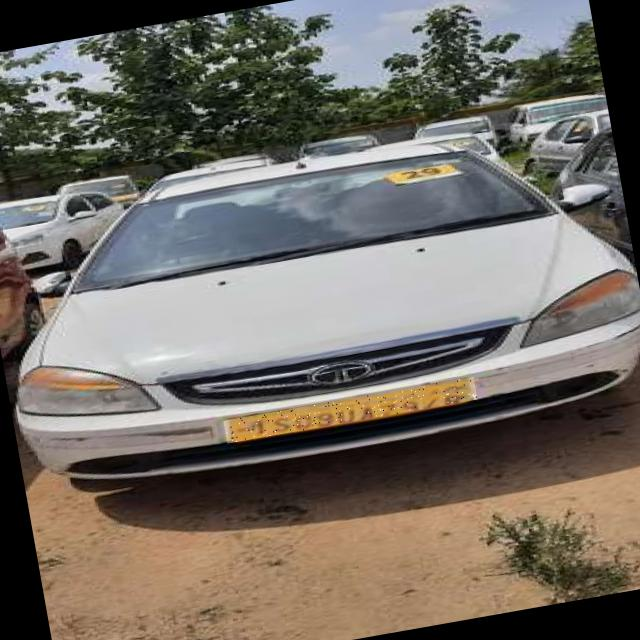Plate: (224, 377, 478, 444)
